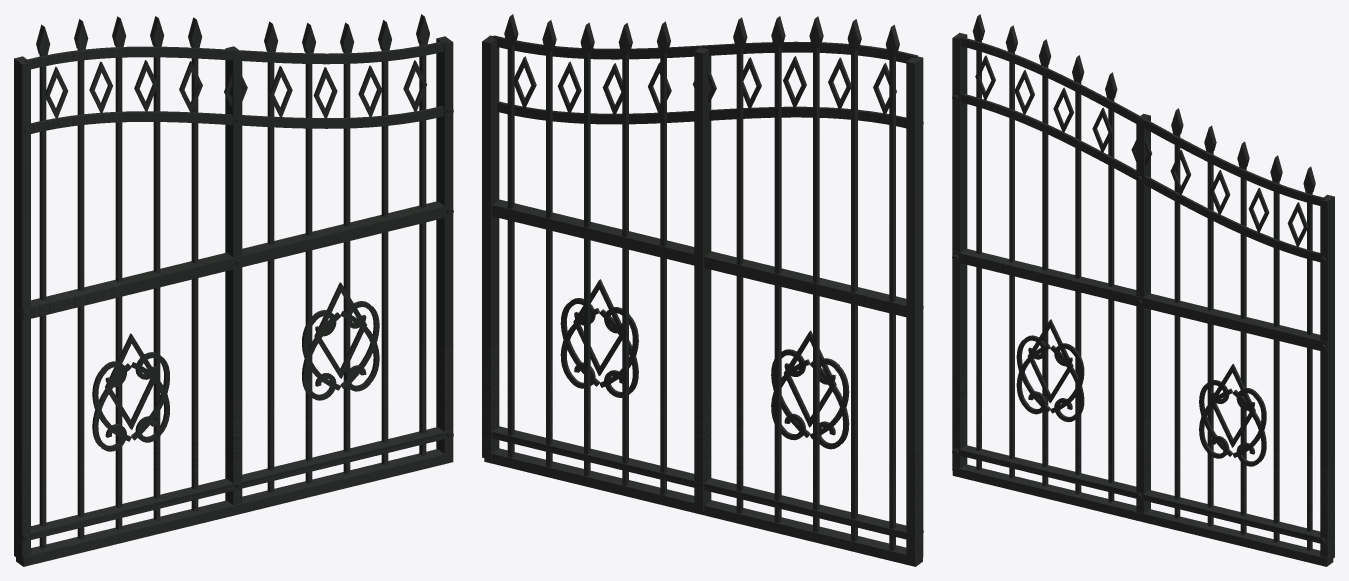
Rendered from nanhua-xincun-scrollwork-gate-near.glb.
3 renders of one model, left to right at view 1: azimuth 30°, elevation 25°; view 2: azimuth 150°, elevation 25°; view 3: azimuth 330°, elevation 25°, orthographic. The views are drawn at different scales.
Visible parts, largest first — view 1: 南华新邨长乐路774弄入口尖矛花铁门; view 2: 南华新邨长乐路774弄入口尖矛花铁门; view 3: 南华新邨长乐路774弄入口尖矛花铁门.
Boxes of the visible parts, x1=… form: 南华新邨长乐路774弄入口尖矛花铁门: x1=14, y1=14, x2=453, y2=566; 南华新邨长乐路774弄入口尖矛花铁门: x1=482, y1=14, x2=923, y2=566; 南华新邨长乐路774弄入口尖矛花铁门: x1=952, y1=14, x2=1334, y2=566.
Size of the model in its own units: 1.77 by 2.08 by 0.072.
5 materials, 5 textured.
